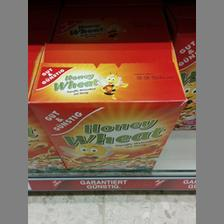Cerealien: (24, 41, 188, 176)
